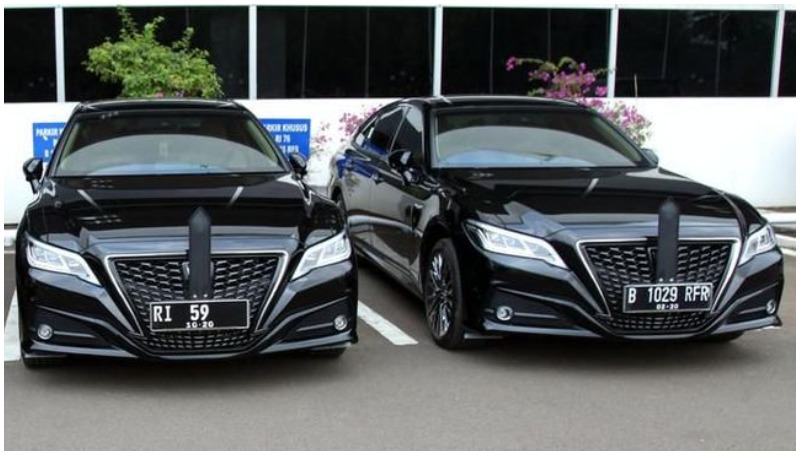plate: (152, 299, 251, 333), (622, 283, 718, 314)
